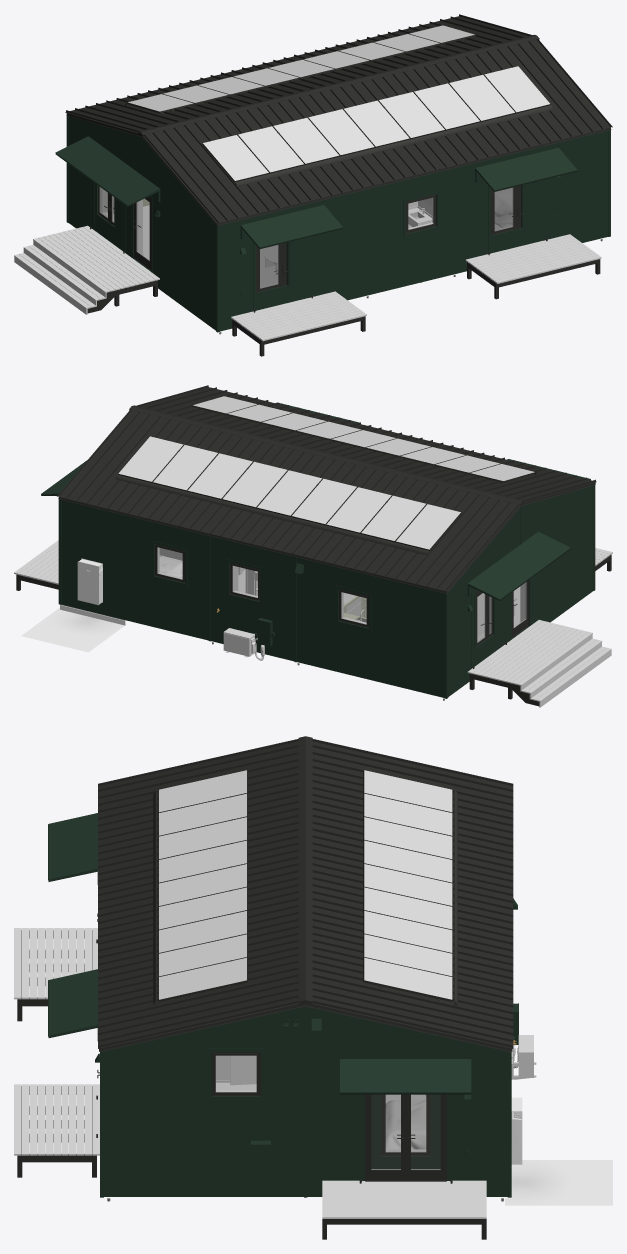
3 renders of one model, top to bottom at view 1: azimuth 30°, elevation 25°; view 2: azimuth 150°, elevation 25°; view 3: azimuth 270°, elevation 25°, orthographic. The views are drawn at different scales.
Parts seen in each view (by area): view 1: Roof_XL10, Wall_e_LDRWR_XL10, SP_Right_1B, Wall_e_RightWindow_XL10, Deck_XL10, SP_Left_1B, Deck_LDRWR_XL10, Deck_LWRDR_XL10, Awning_LDRDR_XL10, Awning_XL10, Wall_e_LWRDR_XL10, Shield_Right_1B (+19 smaller); view 2: Roof_XL10, Wall_e_XL10, SP_Left_1B, Wall_e_RightWindow_XL10, Deck_XL10, SP_Right_1B, Awning_XL10, Tesla_shadow, Glass_W_XL10, Shield_Left_1B, Opening_DW_XL10, Frame_DW_XL10 (+13 smaller); view 3: Roof_XL10, Wall_e_LeftDoor_XL10, SP_Left_1B, SP_Right_1B, Deck_LeftDoor_XL10, Deck_LDRWR_XL10, Deck_LWRDR_XL10, Awning_LeftDoor_XL10, Tesla_shadow, Glass_LeftDoor_XL10, Awning_LDRDR_XL10, Door_Left_XL10 (+21 smaller).
Boxes of the visible parts, left/top/right/bottom form: Roof_XL10: left=65, top=14, right=612, bottom=225; Wall_e_LDRWR_XL10: left=220, top=130, right=608, bottom=331; SP_Right_1B: left=202, top=66, right=550, bottom=182; Wall_e_RightWindow_XL10: left=68, top=116, right=215, bottom=330; Deck_XL10: left=14, top=225, right=159, bottom=314; SP_Left_1B: left=127, top=25, right=475, bottom=113; Deck_LDRWR_XL10: left=465, top=234, right=600, bottom=283; Deck_LWRDR_XL10: left=231, top=291, right=366, bottom=340; Awning_LDRDR_XL10: left=240, top=147, right=577, bottom=249; Awning_XL10: left=55, top=136, right=160, bottom=206; Wall_e_LWRDR_XL10: left=222, top=180, right=542, bottom=320; Shield_Right_1B: left=235, top=105, right=552, bottom=186; Roof_XL10: left=57, top=385, right=596, bottom=593; Wall_e_XL10: left=61, top=500, right=444, bottom=697; SP_Left_1B: left=118, top=436, right=461, bottom=550; Wall_e_RightWindow_XL10: left=448, top=485, right=593, bottom=696; Deck_XL10: left=467, top=620, right=611, bottom=707; SP_Right_1B: left=192, top=396, right=535, bottom=482; Awning_XL10: left=467, top=531, right=570, bottom=600; Tesla_shadow: left=21, top=604, right=126, bottom=652; Glass_W_XL10: left=157, top=548, right=366, bottom=623; Shield_Left_1B: left=116, top=474, right=429, bottom=555; Opening_DW_XL10: left=154, top=544, right=529, bottom=637; Frame_DW_XL10: left=151, top=541, right=371, bottom=631; Roof_XL10: left=98, top=736, right=513, bottom=1051; Wall_e_LeftDoor_XL10: left=104, top=1006, right=507, bottom=1196; SP_Left_1B: left=363, top=770, right=452, bottom=1001; SP_Right_1B: left=158, top=770, right=247, bottom=1001; Deck_LeftDoor_XL10: left=322, top=1180, right=486, bottom=1218; Deck_LDRWR_XL10: left=14, top=1084, right=99, bottom=1155; Deck_LWRDR_XL10: left=14, top=928, right=97, bottom=999; Awning_LeftDoor_XL10: left=340, top=1059, right=471, bottom=1094; Tesla_shadow: left=505, top=1160, right=612, bottom=1205; Glass_LeftDoor_XL10: left=371, top=1095, right=440, bottom=1169; Awning_LDRDR_XL10: left=48, top=813, right=97, bottom=1037; Door_Left_XL10: left=359, top=1094, right=452, bottom=1183.
Bounding box in the file's own units: 15.25 × 4.24 × 11.11.
Materials: 43 (2 with a texture image).
